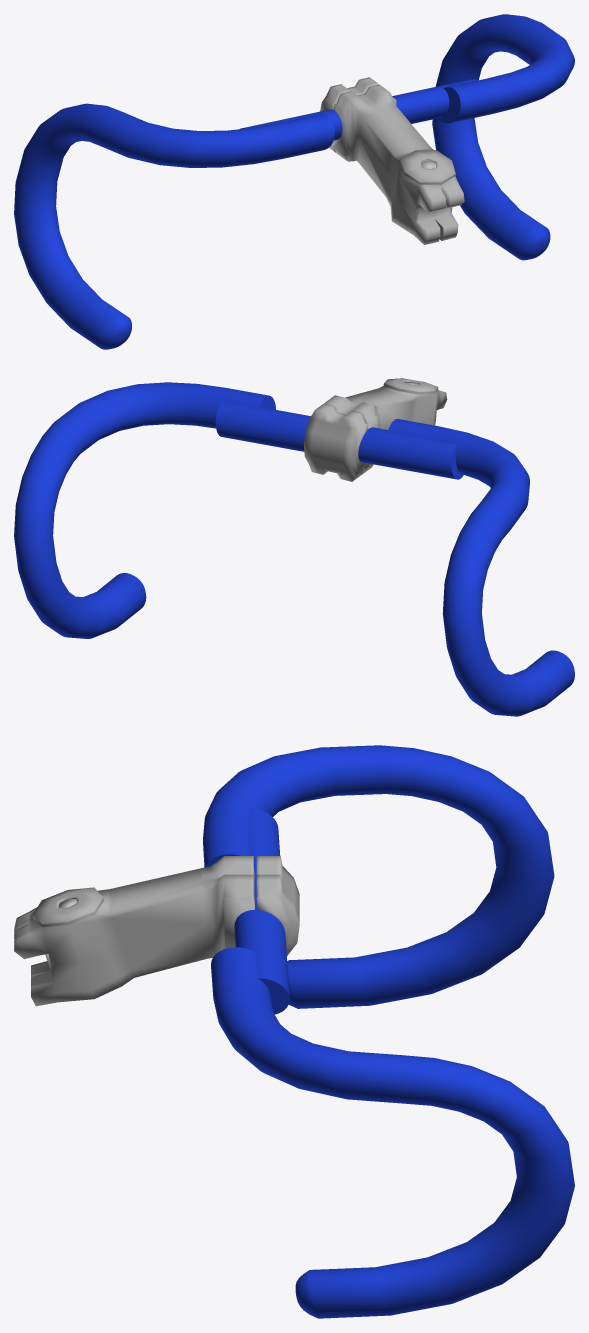
The model's file is stem.glb.
The picture shows the model from 3 angles, top to bottom: view 1: azimuth 30°, elevation 25°; view 2: azimuth 150°, elevation 25°; view 3: azimuth 270°, elevation 25°; orthographic projection. The views are drawn at different scales.
Visible parts, largest first — view 1: handlebar.grips, Stem, handlebar; view 2: handlebar.grips, Stem, handlebar; view 3: handlebar.grips, Stem, handlebar.
Boxes of the visible parts, left/top/right/bottom form: handlebar.grips: left=14, top=14, right=574, bottom=349; Stem: left=320, top=77, right=464, bottom=244; handlebar: left=239, top=79, right=477, bottom=140; handlebar.grips: left=14, top=382, right=574, bottom=716; Stem: left=304, top=378, right=447, bottom=481; handlebar: left=215, top=402, right=463, bottom=479; handlebar.grips: left=203, top=745, right=574, bottom=1318; Stem: left=14, top=856, right=299, bottom=1006; handlebar: left=234, top=808, right=289, bottom=1014.
Size of the model in its own units: 1.81 by 0.8237 by 1.31.
